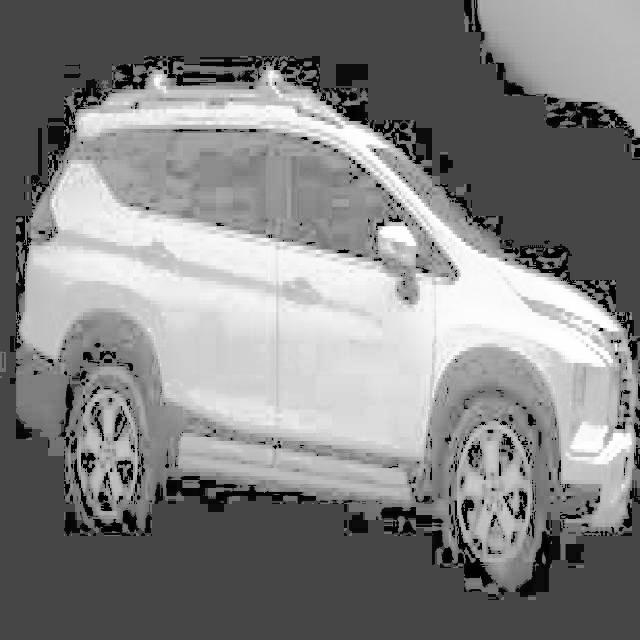Car: (21, 55, 637, 603)
